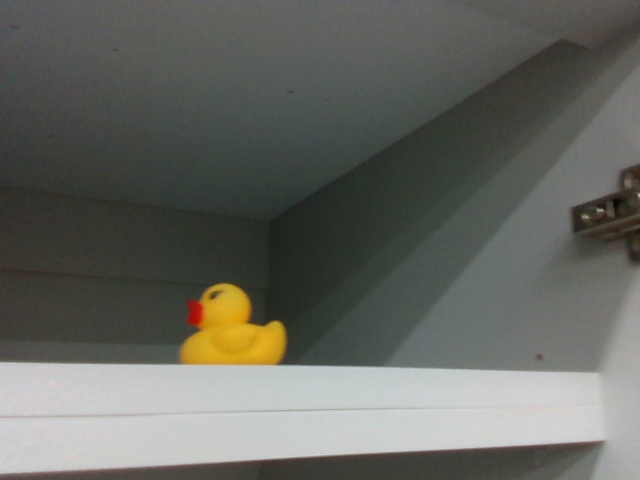duck: (176, 277, 290, 366)
